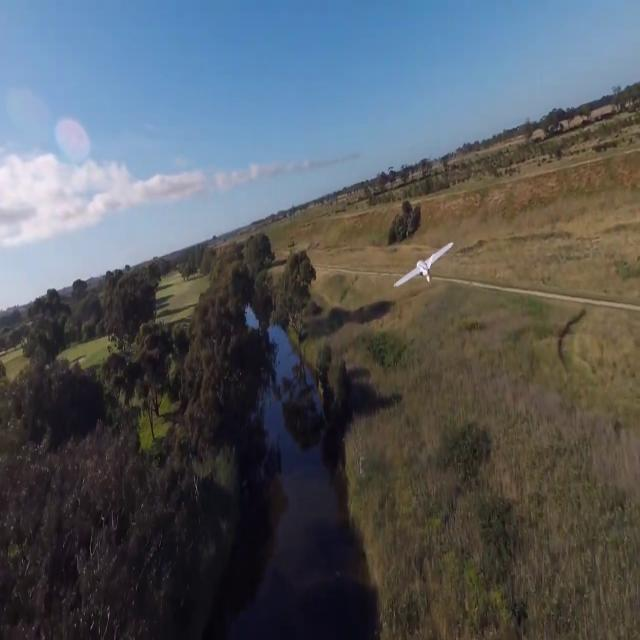iha: (393, 243, 453, 301)
